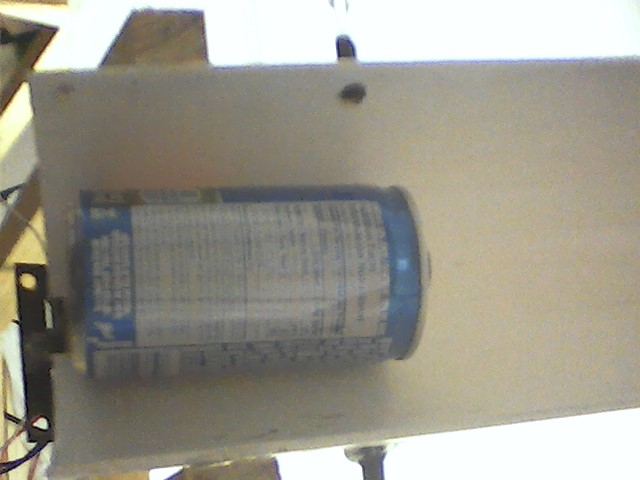lata: (59, 183, 440, 377)
